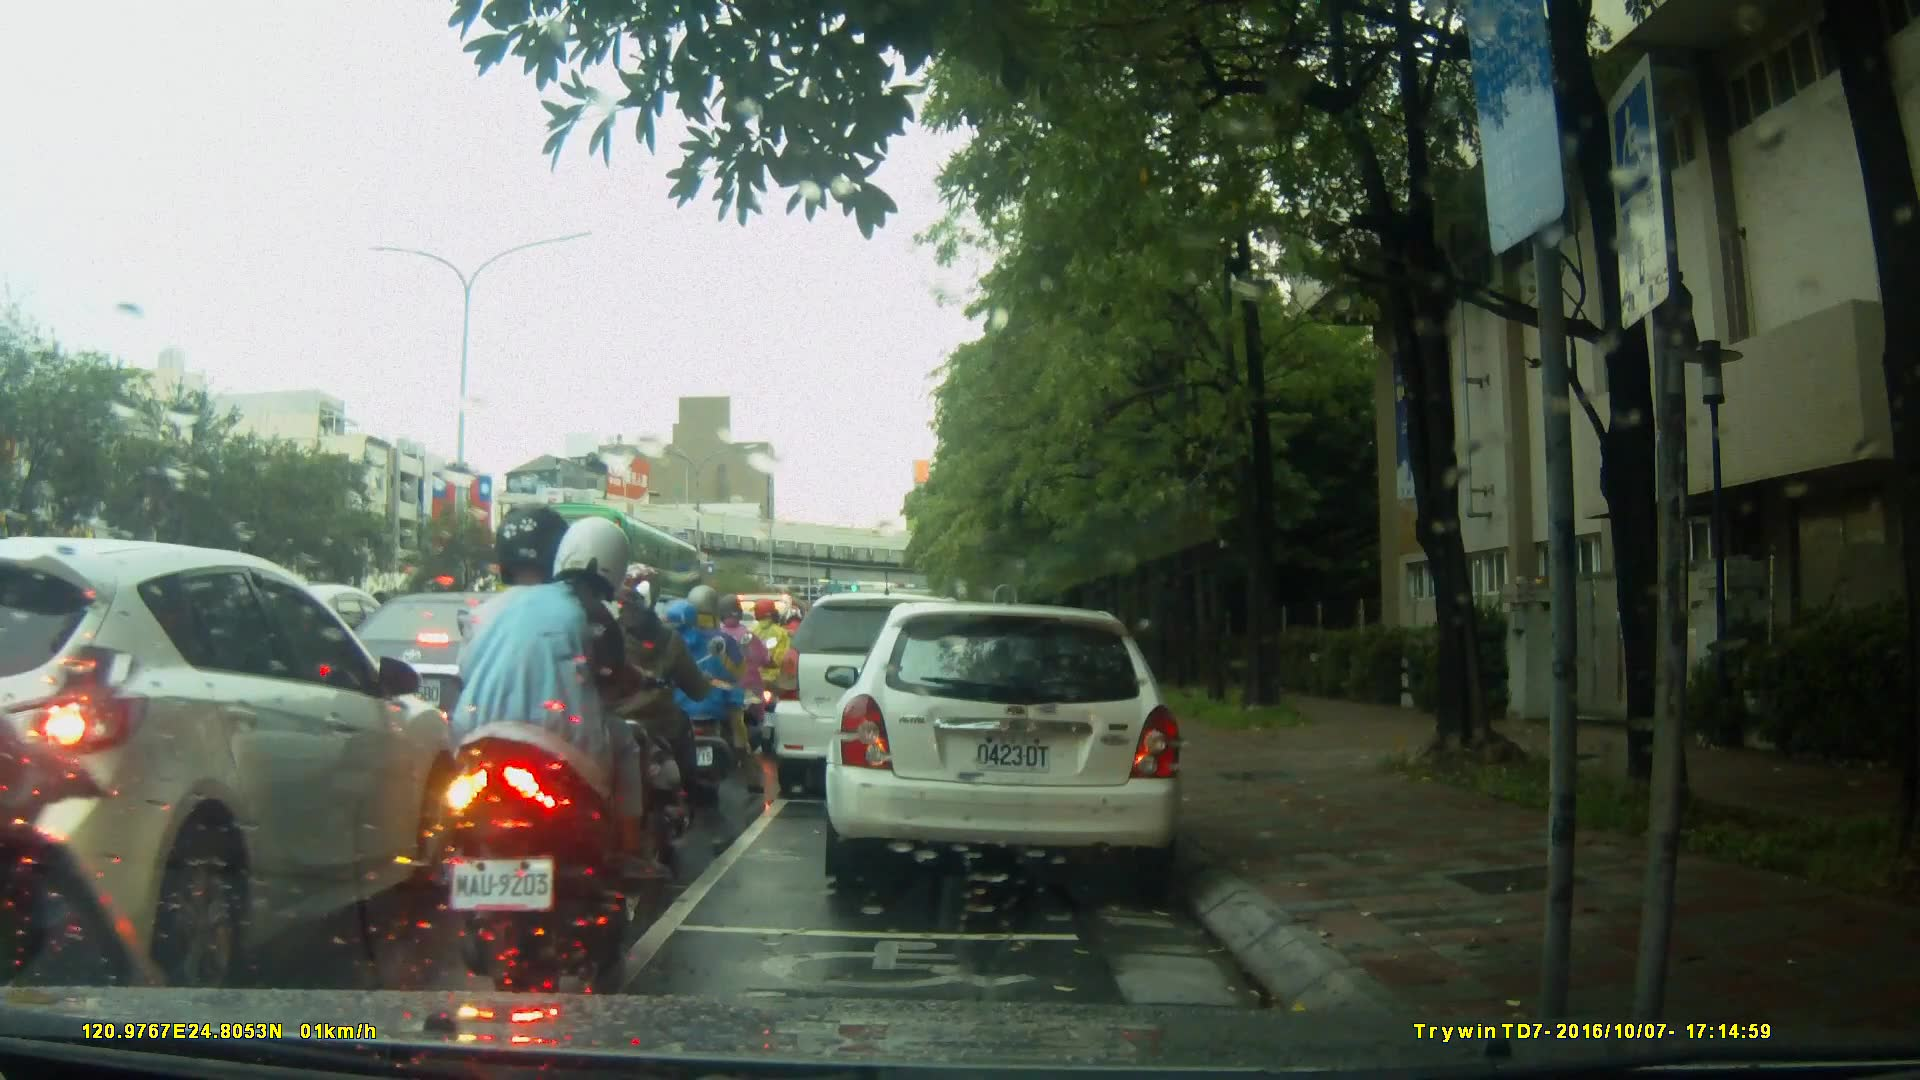rider: (450, 503, 663, 993), (600, 566, 728, 857), (658, 587, 742, 799), (699, 598, 771, 764), (740, 598, 798, 746)
vehicle: (4, 536, 464, 988), (831, 592, 1196, 897), (312, 589, 629, 776), (771, 590, 999, 803), (499, 502, 709, 636)
